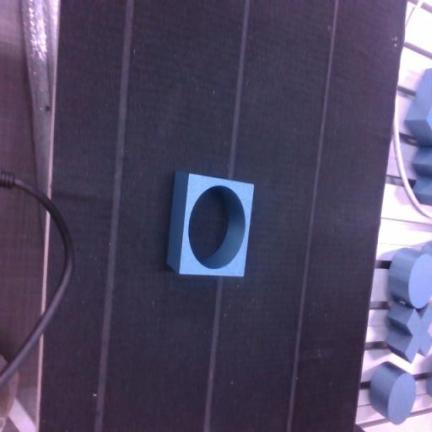hole: (168, 172, 253, 276)
